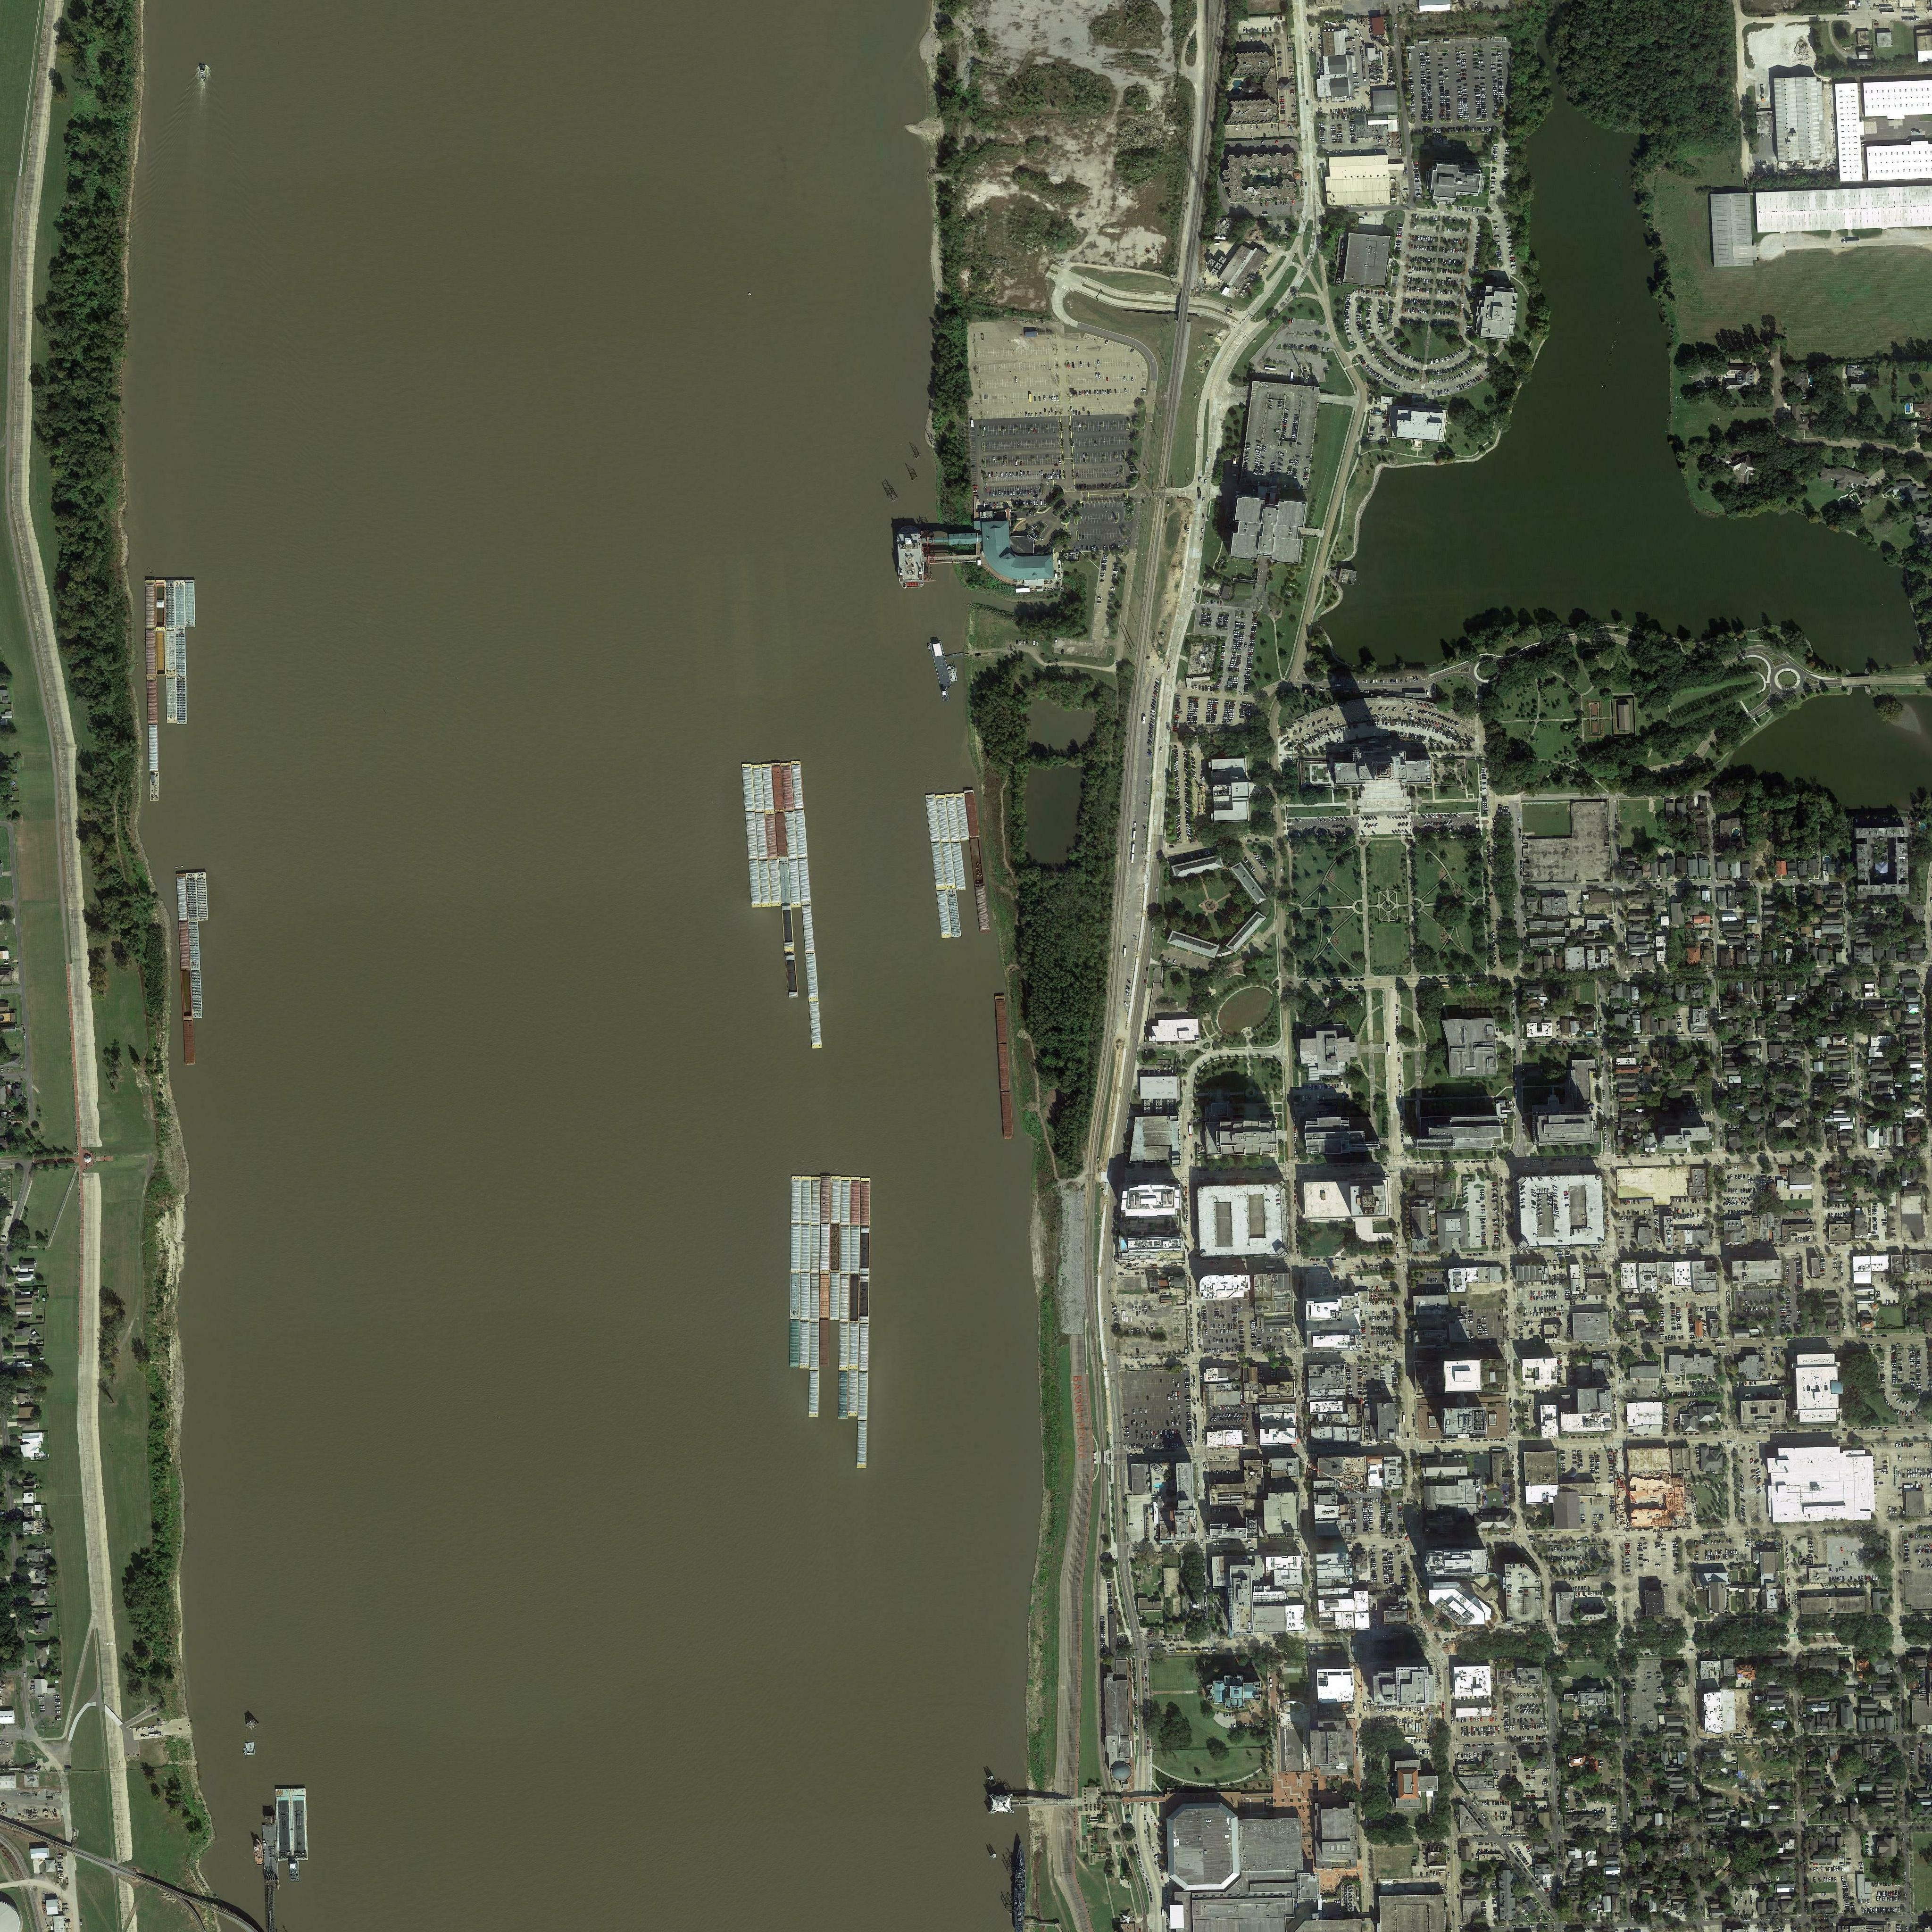harbor: (927, 633, 973, 706)
ship: (897, 522, 925, 589), (276, 1789, 294, 1861), (292, 1789, 308, 1861), (1014, 1844, 1026, 1932), (931, 840, 947, 892), (964, 789, 980, 839), (936, 890, 952, 939), (945, 793, 961, 842), (784, 950, 800, 1000), (970, 837, 985, 886), (925, 794, 941, 842), (941, 842, 957, 890), (950, 842, 966, 890), (975, 886, 991, 934), (791, 759, 805, 810), (805, 950, 819, 1001), (780, 761, 794, 812), (188, 920, 202, 970), (955, 793, 970, 842), (794, 809, 809, 858), (741, 763, 755, 812), (748, 858, 763, 908), (947, 888, 961, 938), (936, 794, 950, 842), (745, 812, 759, 860), (764, 812, 778, 860), (798, 858, 812, 906), (801, 904, 816, 952), (809, 1001, 823, 1049), (780, 906, 794, 952), (771, 761, 784, 812), (763, 763, 775, 814), (196, 870, 209, 922), (180, 970, 193, 1019), (179, 920, 191, 970), (837, 1369, 849, 1419), (856, 1419, 869, 1468), (186, 872, 198, 922), (789, 858, 801, 908), (175, 872, 188, 922), (752, 764, 764, 814), (819, 1223, 832, 1272), (789, 1320, 801, 1368), (1001, 1092, 1014, 1139), (165, 628, 177, 676), (755, 812, 768, 860), (775, 810, 787, 858), (786, 810, 798, 858), (759, 860, 771, 908), (768, 860, 780, 908), (778, 858, 791, 906), (994, 996, 1007, 1044), (998, 1044, 1010, 1092), (858, 1323, 870, 1371), (789, 1272, 801, 1320), (147, 679, 159, 724), (182, 1019, 195, 1063), (186, 579, 196, 628), (809, 1369, 819, 1419), (858, 1369, 869, 1419), (191, 970, 202, 1019), (145, 579, 156, 628), (177, 676, 188, 725), (145, 628, 156, 678), (156, 626, 166, 676), (809, 1320, 819, 1369), (840, 1177, 851, 1226), (819, 1270, 830, 1320), (860, 1274, 870, 1323), (849, 1274, 860, 1323), (800, 1270, 810, 1320), (839, 1322, 849, 1369), (175, 580, 186, 628), (832, 1177, 842, 1224), (800, 1322, 810, 1369), (821, 1175, 832, 1223), (810, 1177, 821, 1224), (156, 579, 166, 626), (175, 628, 186, 676), (830, 1272, 840, 1320), (819, 1320, 830, 1368), (847, 1369, 858, 1417), (149, 724, 159, 771), (166, 676, 177, 724), (791, 1177, 801, 1224), (851, 1177, 862, 1224), (840, 1226, 851, 1274), (801, 1177, 812, 1224), (791, 1224, 801, 1272), (860, 1178, 870, 1226), (810, 1224, 821, 1272), (830, 1224, 840, 1272), (840, 1274, 851, 1322), (860, 1226, 870, 1274), (849, 1323, 860, 1369), (166, 580, 175, 628), (810, 1272, 819, 1320), (801, 1224, 810, 1272), (851, 1226, 860, 1274), (253, 1838, 264, 1865), (150, 771, 159, 801), (947, 665, 959, 683), (198, 64, 207, 83), (925, 642, 932, 649)
